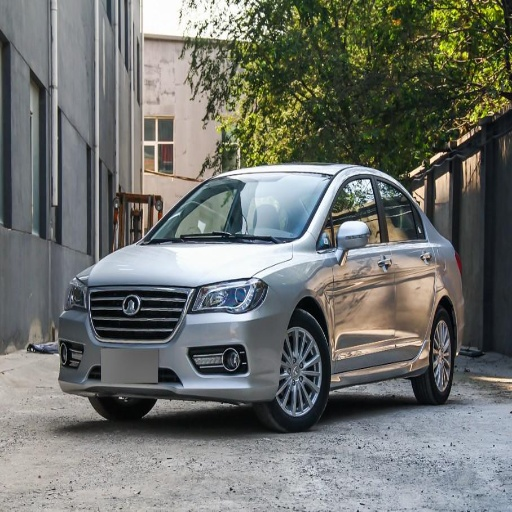front_bumper: (57, 281, 291, 403)
front_glass: (141, 172, 332, 244)
front_left_door: (324, 172, 394, 371)
